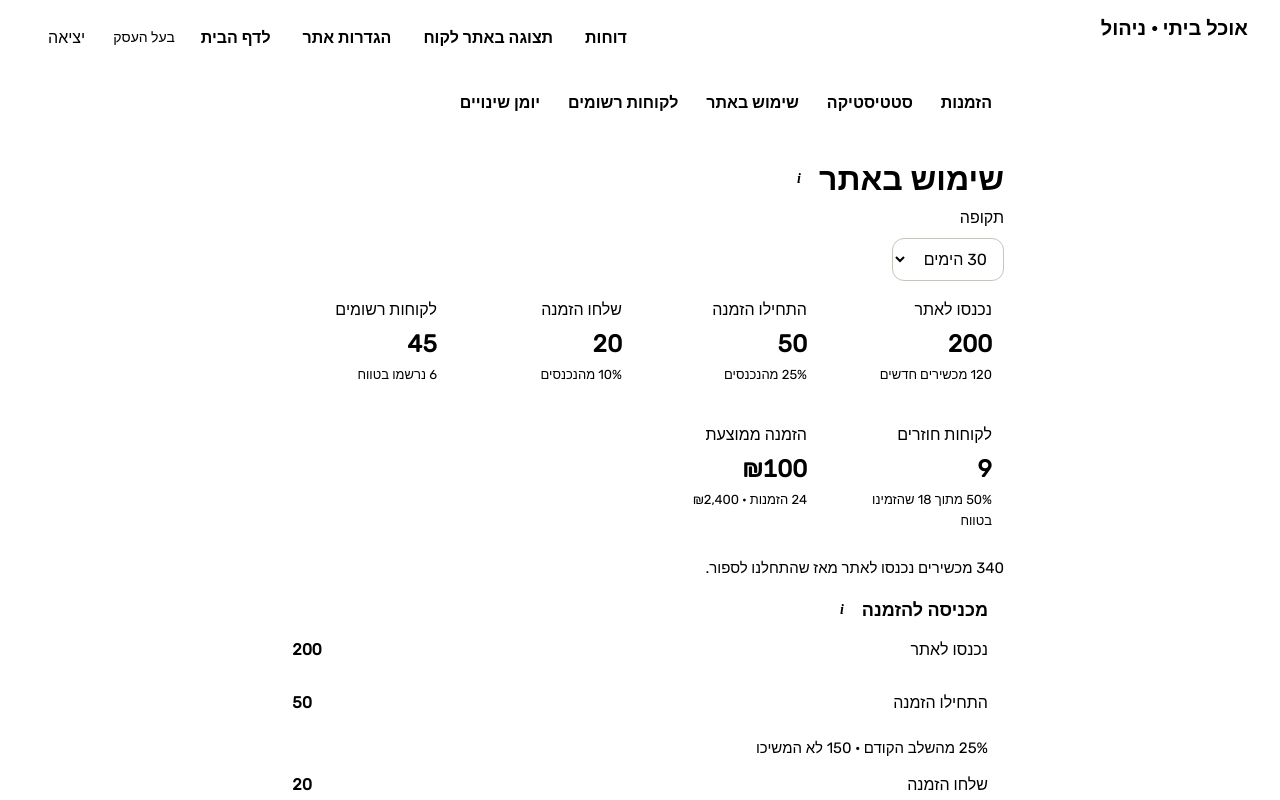
Usage report › asks for another range and warns when old days are only counted per day
Expected: the list named "סיכום" is shown, [276,285,1004,544]
Step 1. Select "טווח אחר" in the dropdown labelled "תקופה" → (948, 260), box [892,238,1004,281]
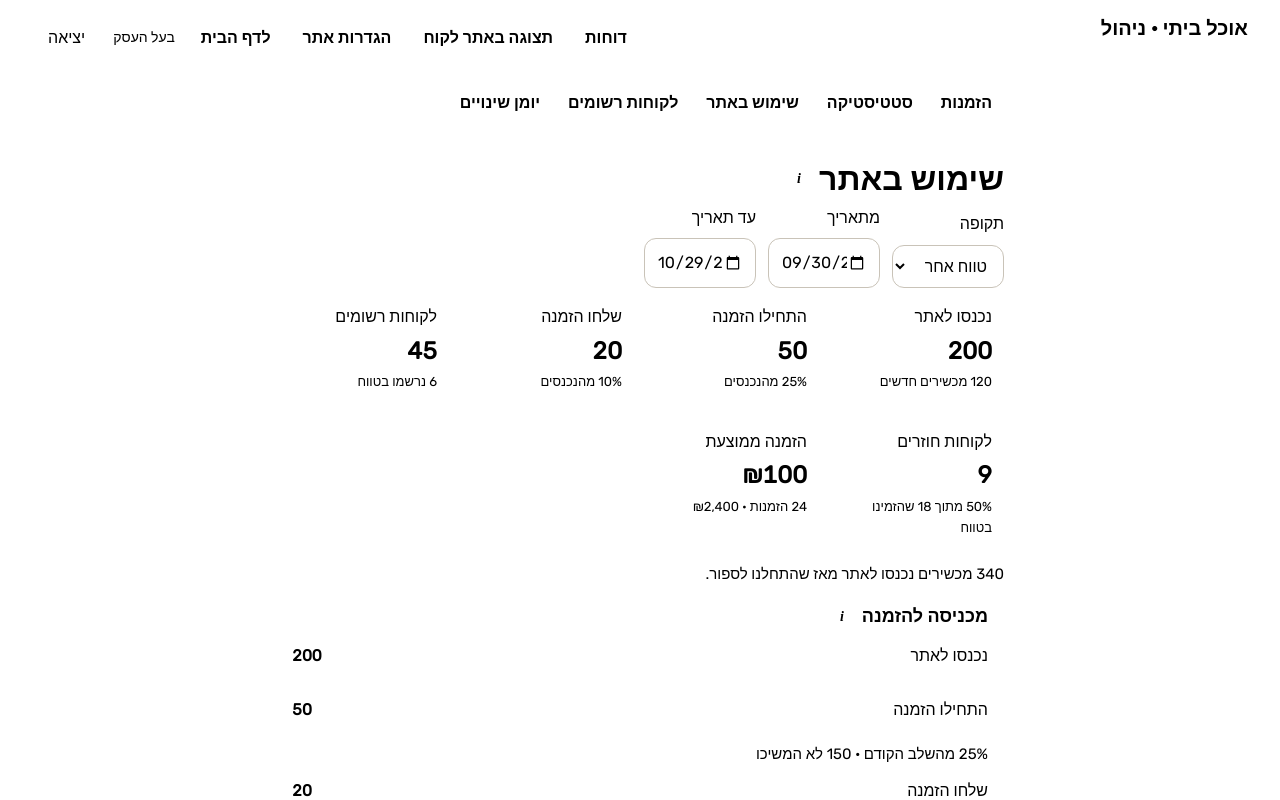
Step 2. Type "2026-01-01" into the date field labelled "מתאריך" → (824, 263), box [768,238,880,288]
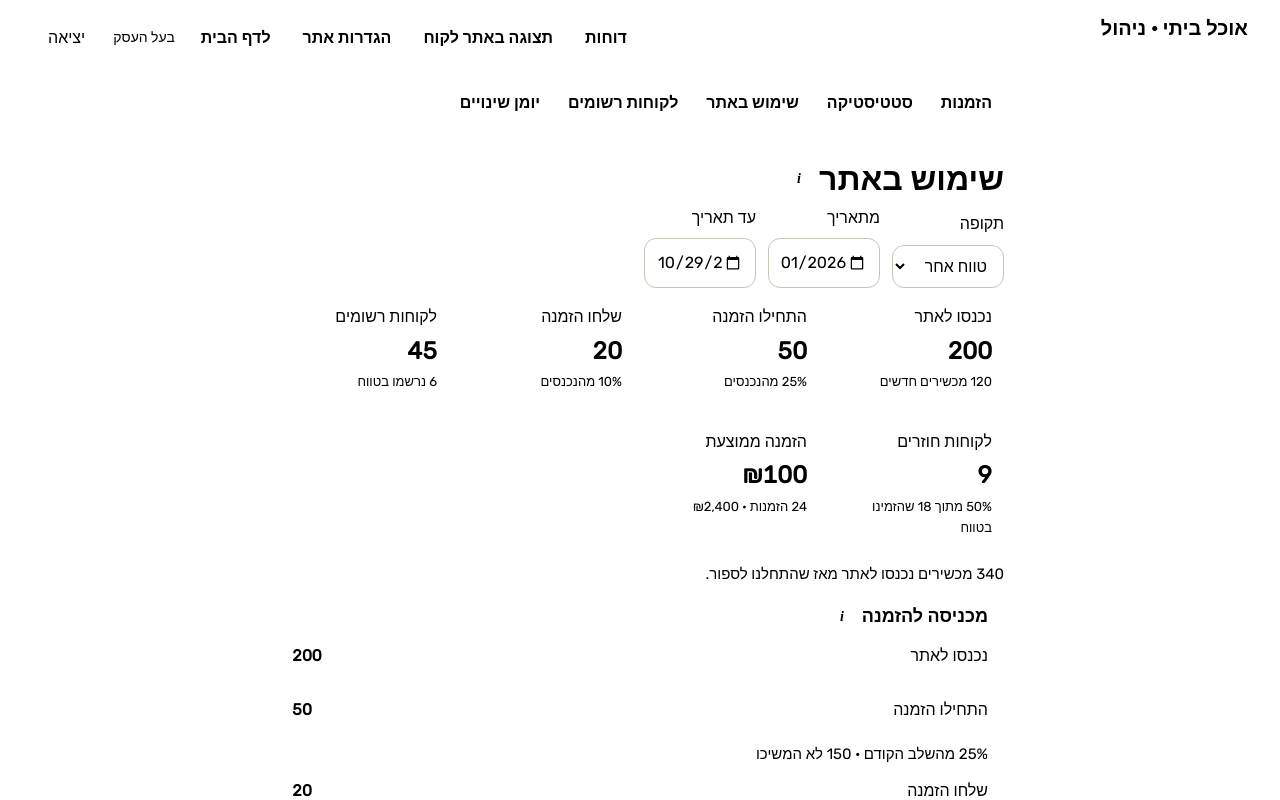
Step 3. Type "2026-03-31" into the date field labelled "עד תאריך" → (700, 263), box [644,238,756,288]
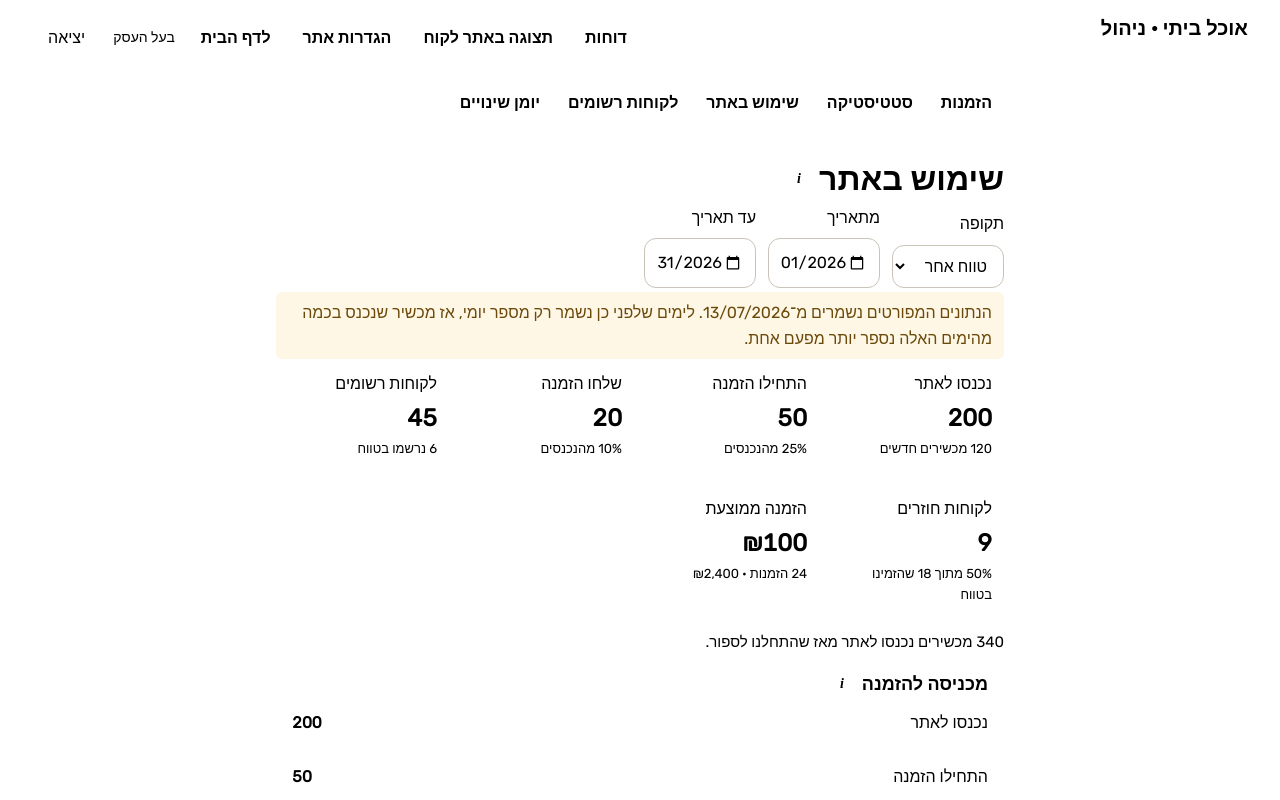
Now the text "הנתונים המפורטים נשמרים מ־13/07/2026" is shown, box [302,303,992,348]
